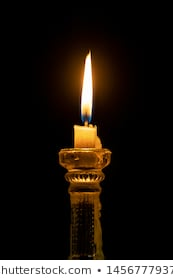Fire: (77, 51, 98, 120)
